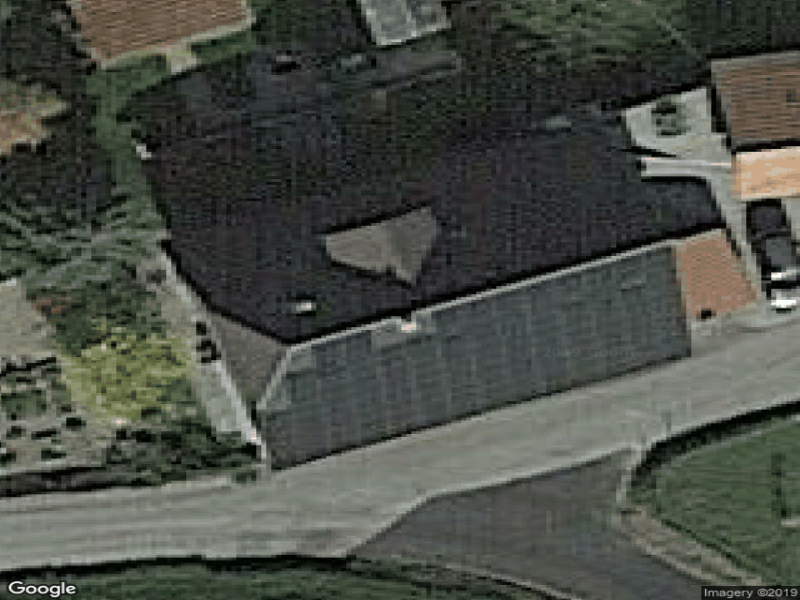pv: (268, 247, 690, 472)
